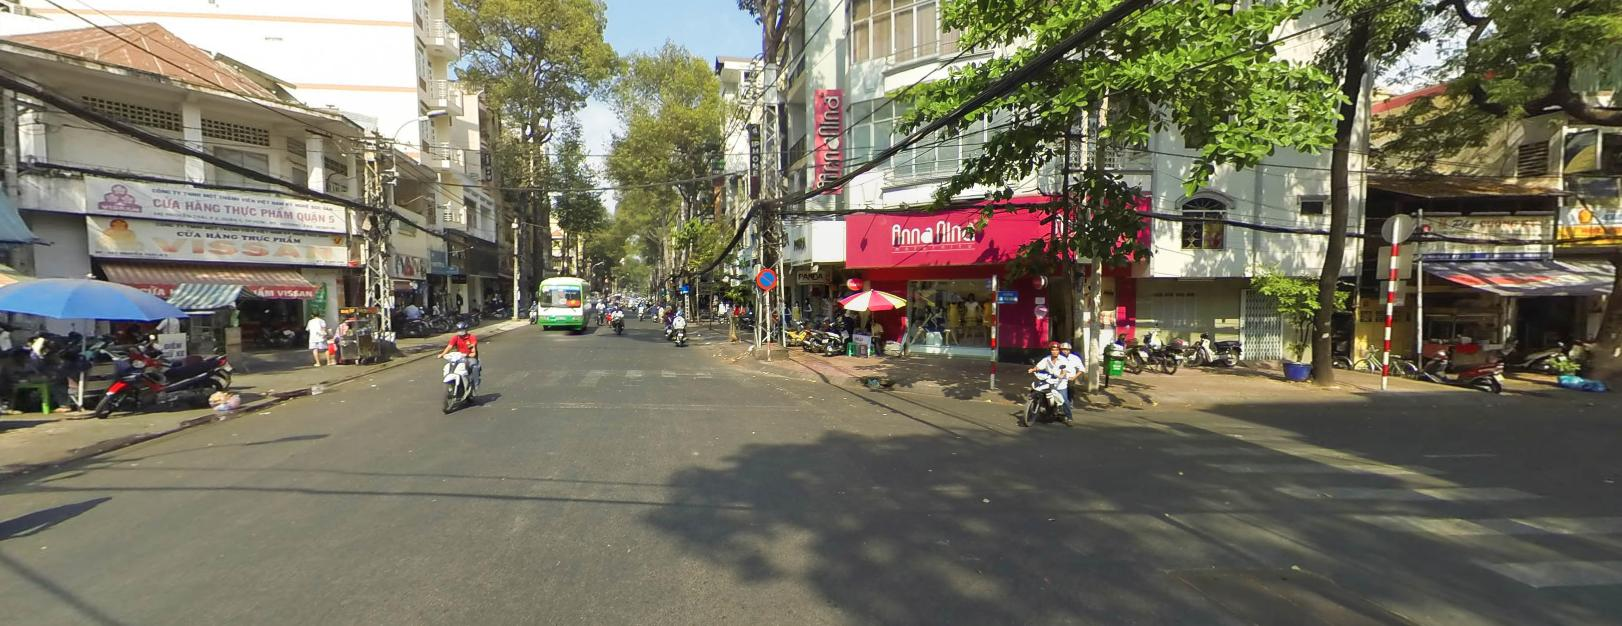Cam dung va do: (756, 267, 776, 287)
